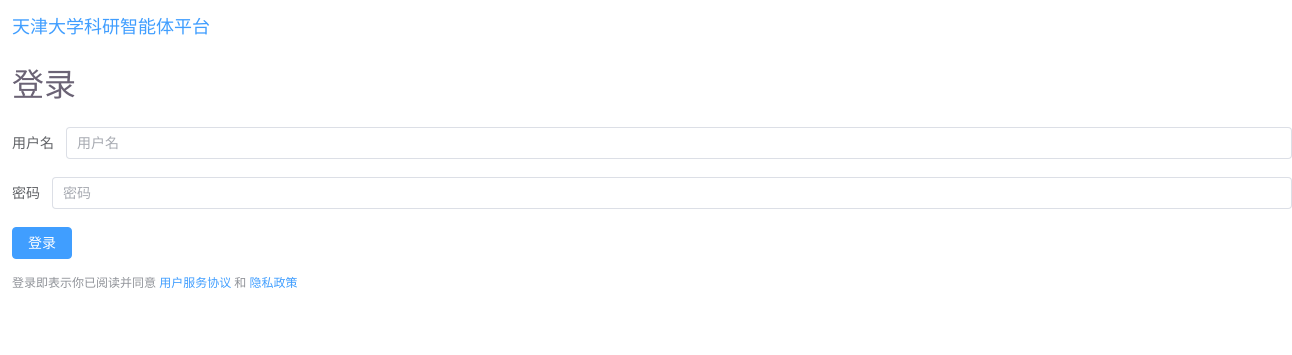
Test: LoginView › 登录失败显示后端真实错误而非写死文案
Type "alice" into the field with placeholder "用户名" at (679, 143), box [77,128,1281,158]
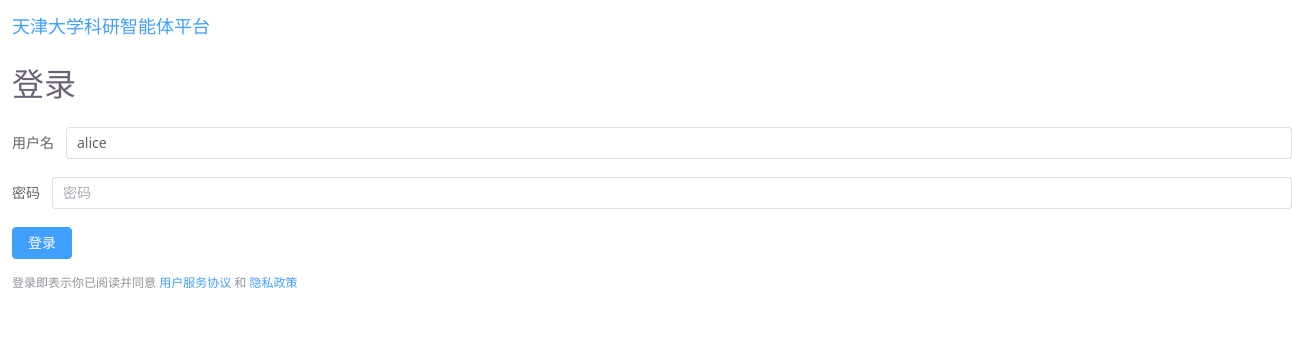
Type "wrong-pass-1" into the password field with placeholder "密码" at (672, 193), box [63,178,1281,208]
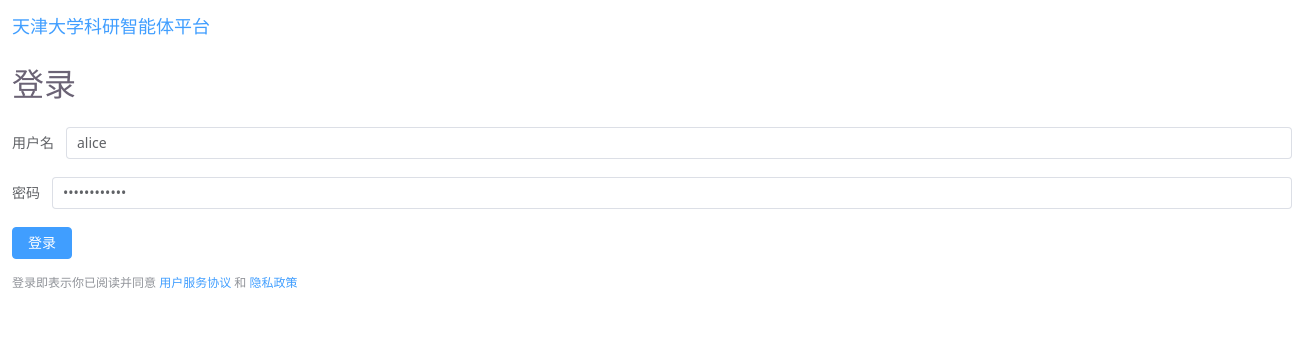
Click the button "登录" at (42, 243), box [12,227,72,259]
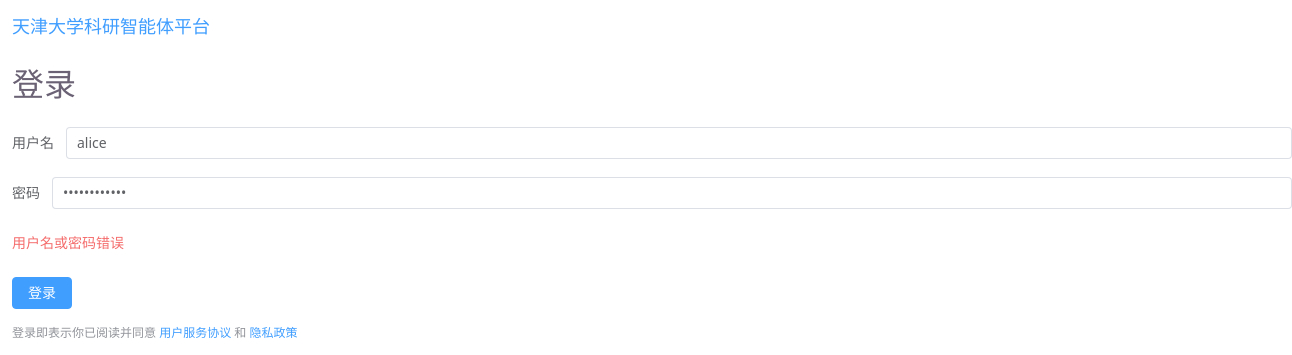
Now the text "用户名或密码错误" is shown, box [12,233,124,252]
